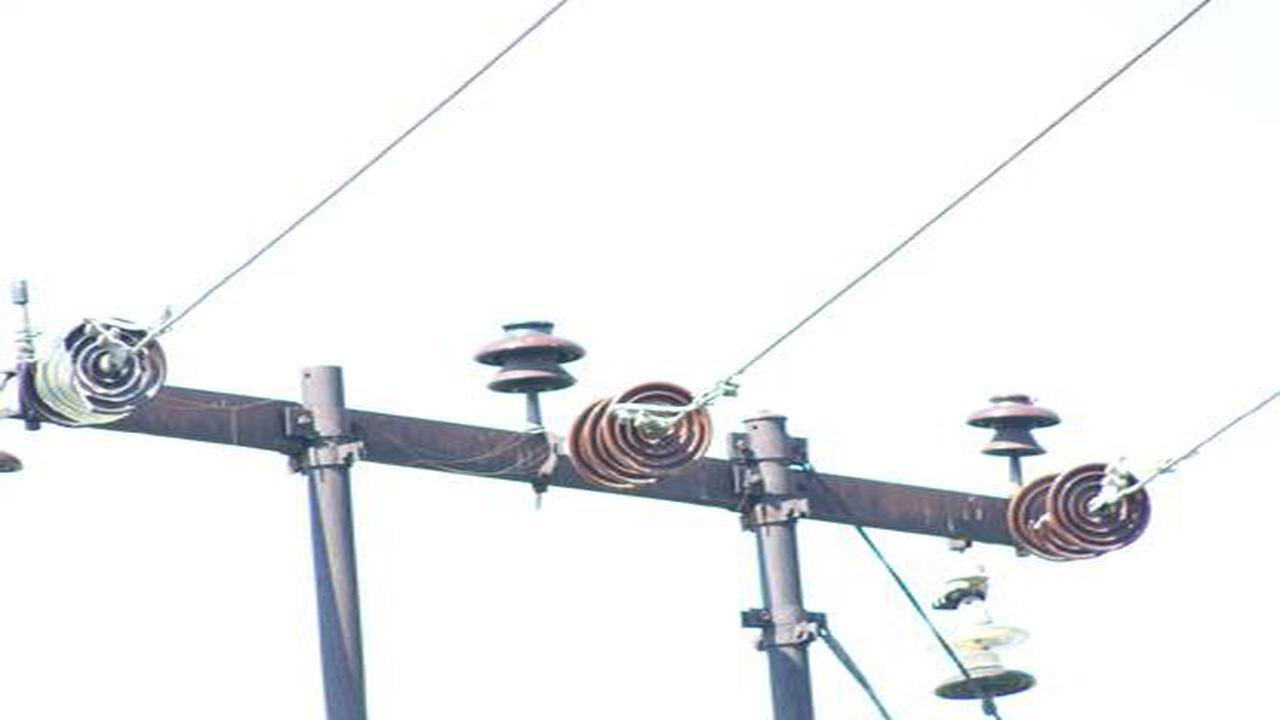defect_disc: (60, 317, 173, 419)
insulator_disc: (598, 380, 713, 478), (1044, 459, 1153, 549)
